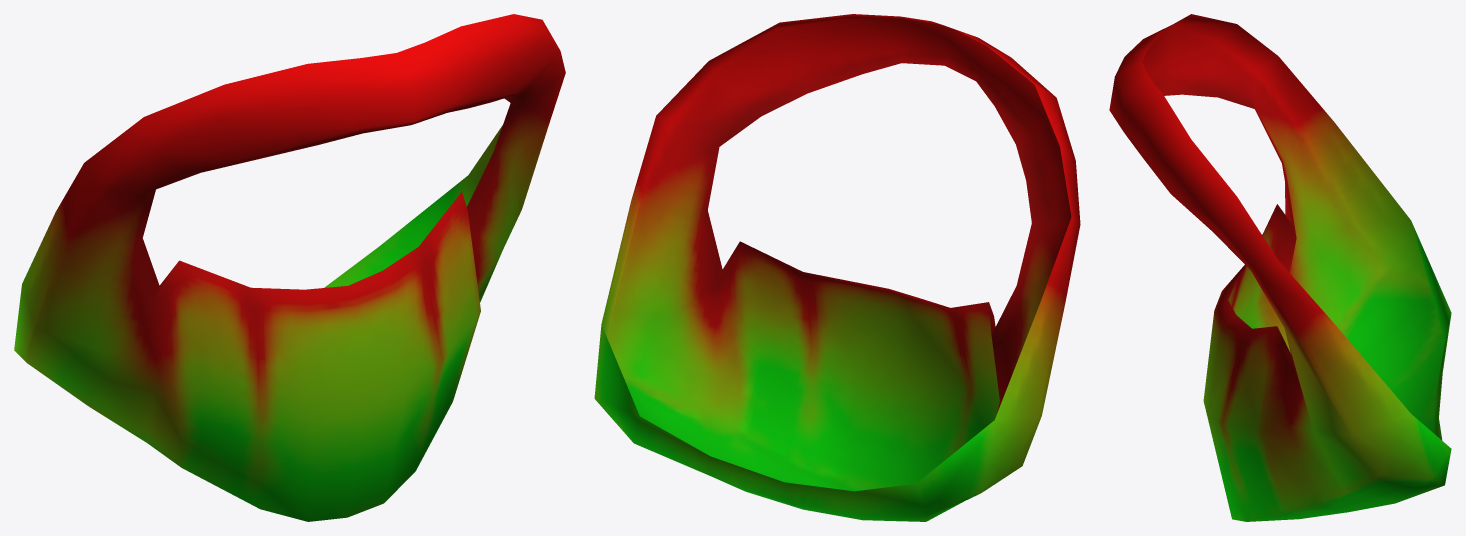
Rendered from LowerFace_Goatee.obj.
3 views of the same model, side by side, from view 1: azimuth 30°, elevation 25°; view 2: azimuth 150°, elevation 25°; view 3: azimuth 270°, elevation 25° (orthographic). The views are drawn at different scales.
Parts seen in each view (by area): view 1: LowerFace_Goatee_0; view 2: LowerFace_Goatee_0; view 3: LowerFace_Goatee_0.
Part boxes in pixels (x1=…): LowerFace_Goatee_0: x1=14, y1=14, x2=565, y2=521; LowerFace_Goatee_0: x1=594, y1=14, x2=1080, y2=521; LowerFace_Goatee_0: x1=1109, y1=14, x2=1451, y2=521.
Size of the model in its own units: 0.0709 by 0.0697 by 0.0486.
1 material, 1 textured.
